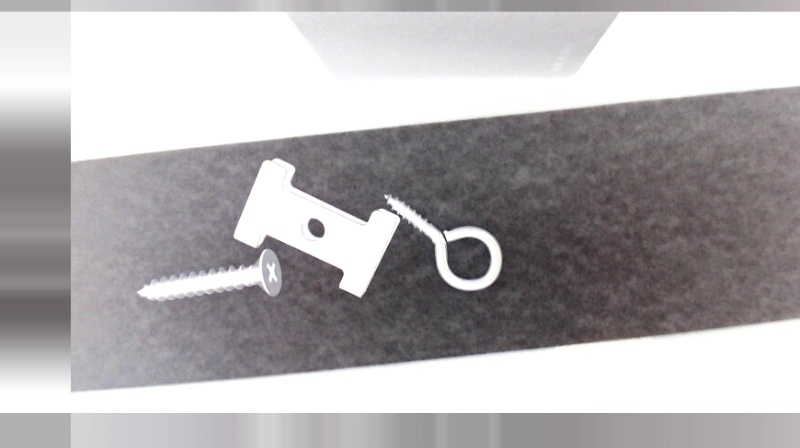O001: (381, 192, 505, 293)
O002: (234, 156, 398, 297)
S001: (135, 248, 283, 304)
